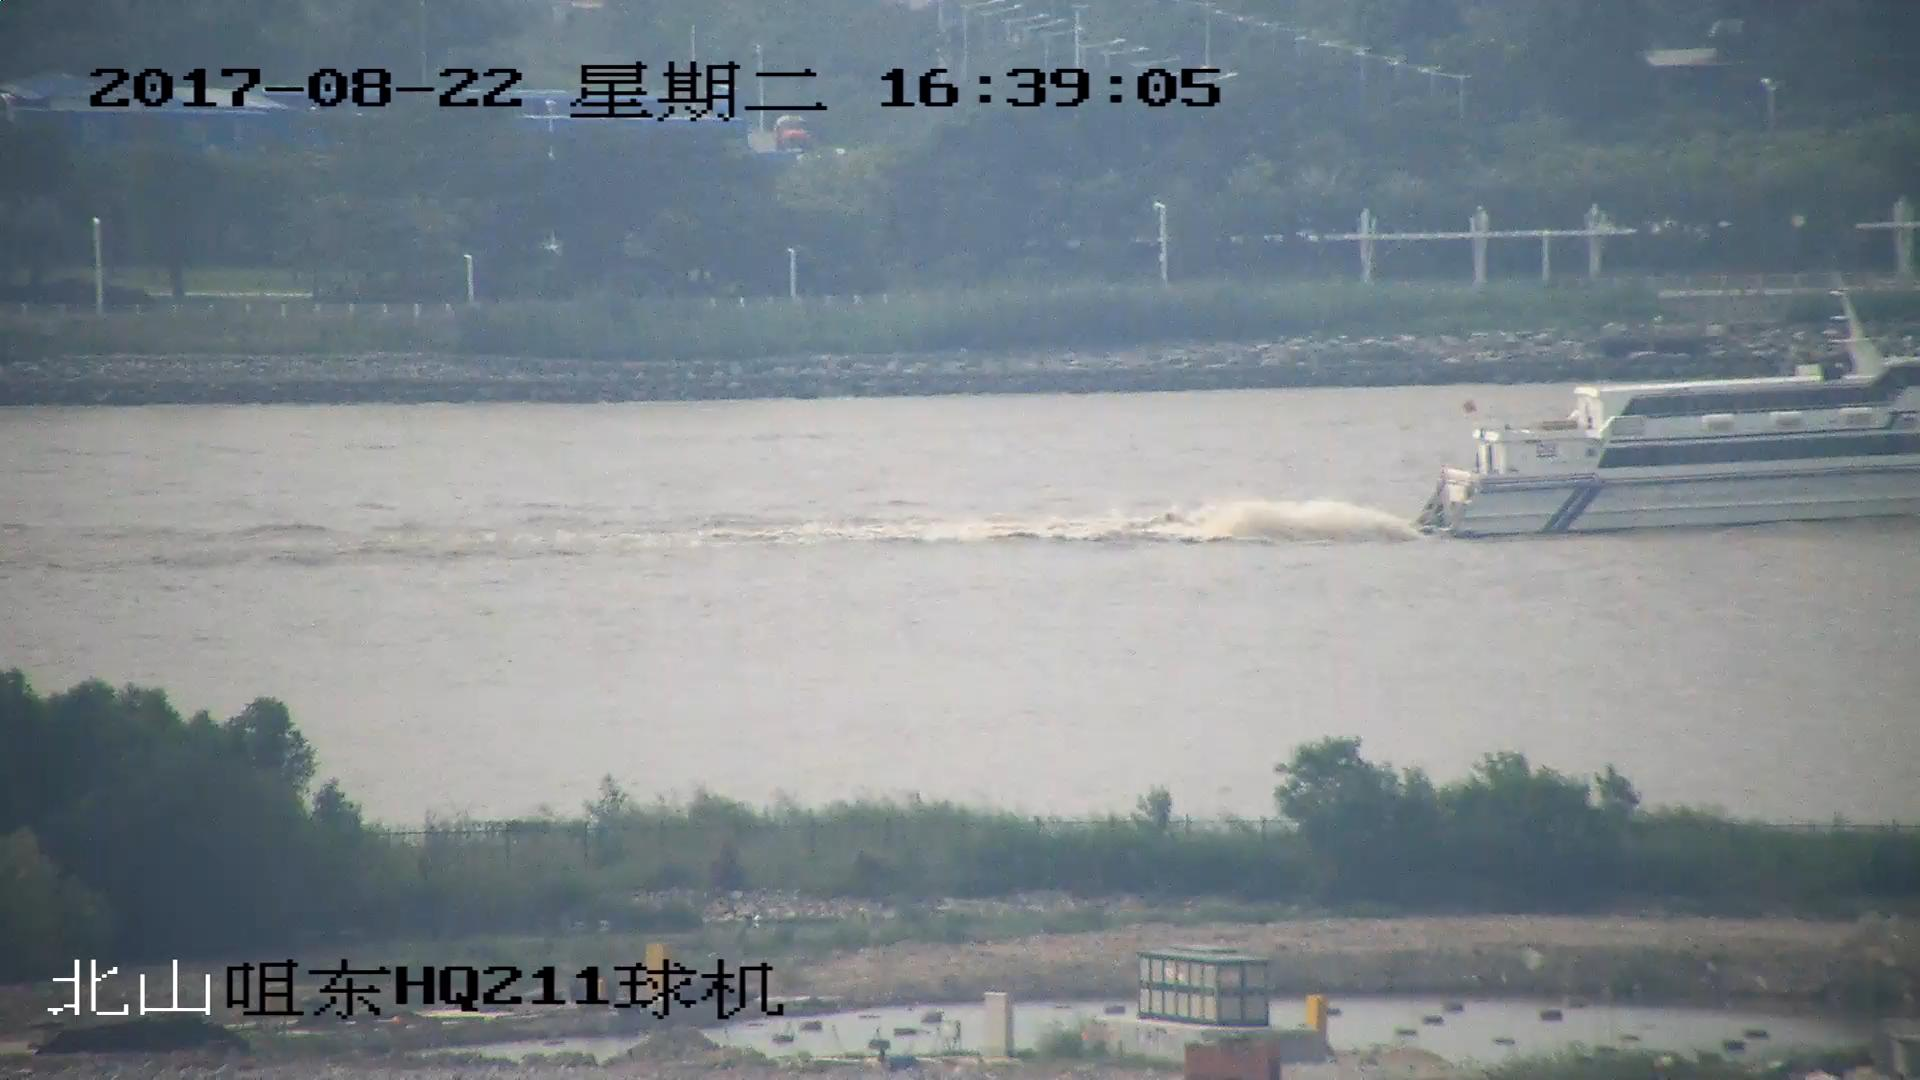passenger ship: (1424, 297, 1920, 533)
